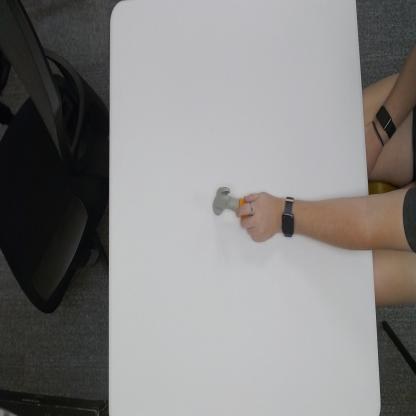Arm: (298, 196, 372, 252)
Hammer: (212, 184, 252, 218)
Hand: (235, 191, 280, 246)
